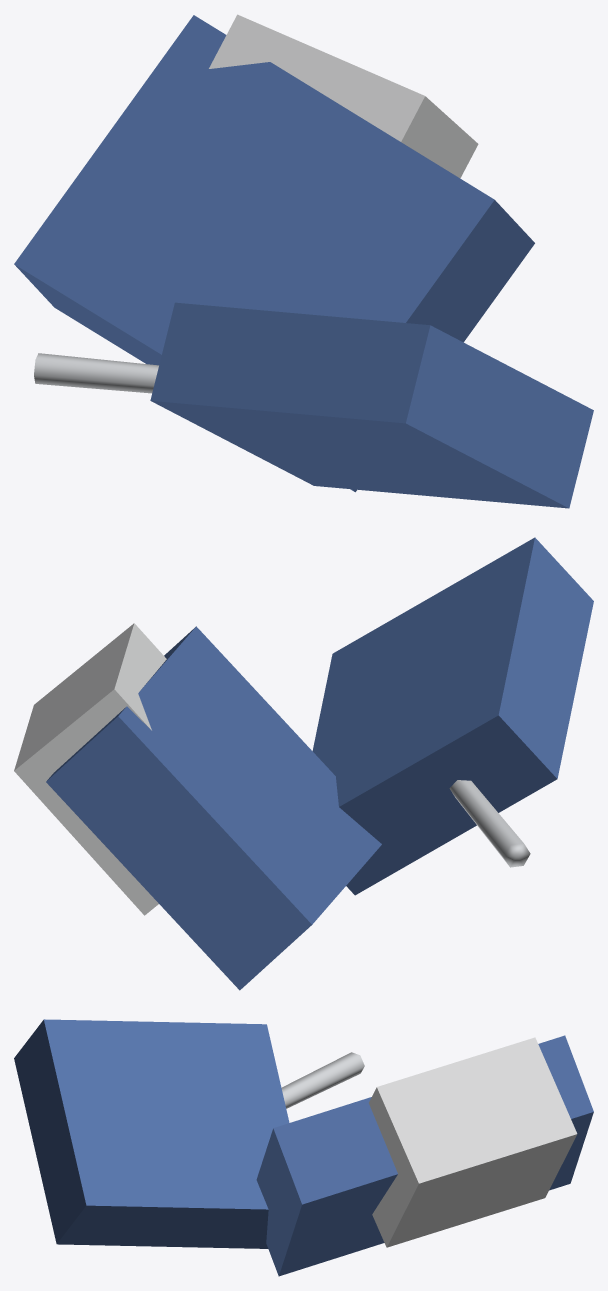
File: shrimp-boat-wreck.glb
The picture shows the model from 3 angles, top to bottom: view 1: azimuth 30°, elevation 25°; view 2: azimuth 150°, elevation 25°; view 3: azimuth 270°, elevation 25°; orthographic projection. The views are drawn at different scales.
Parts seen in each view (by area): view 1: Root; view 2: Root; view 3: Root.
Boxes of the visible parts, x1,y1,x2,y2 form: Root: (14,14,593,508); Root: (14,537,593,990); Root: (14,1019,593,1276).
Bounding box in the file's own units: 6.61 × 4.38 × 8.92.
